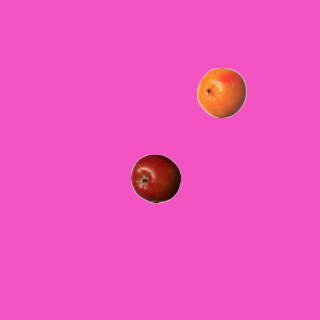Apple Braeburn: (130, 153, 180, 203)
Grapefruit Pink: (196, 67, 246, 117)
